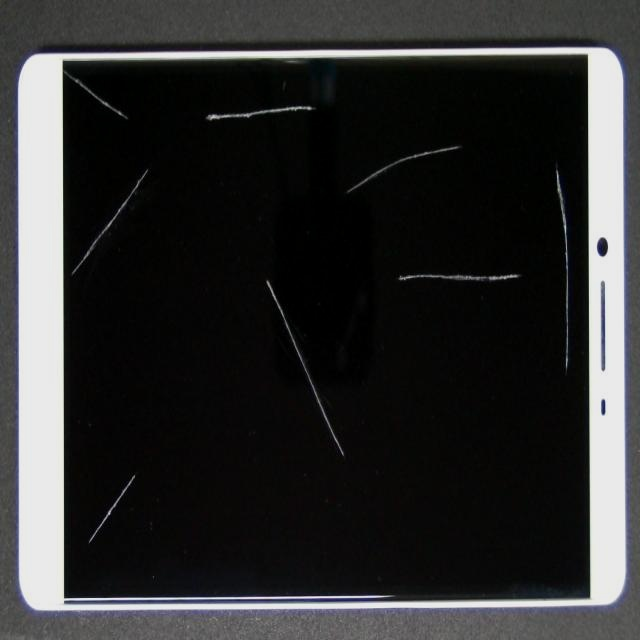scratch: (265, 0, 640, 376), (341, 138, 640, 395), (87, 196, 171, 640), (240, 29, 440, 129)
